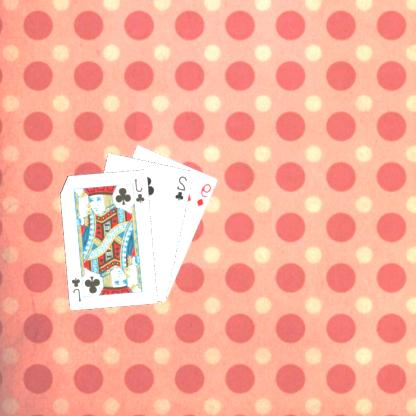2C: (174, 173, 190, 202)
9D: (196, 181, 214, 208)
JC: (133, 176, 148, 204), (71, 274, 84, 302)
